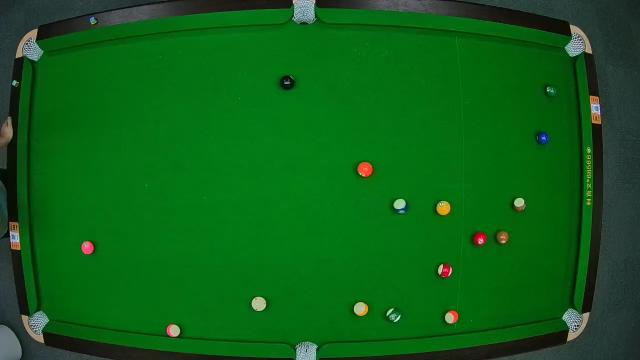bag1: (24, 40, 40, 62)
bag2: (292, 2, 316, 22)
bag3: (566, 34, 584, 56)
bag4: (27, 310, 49, 336)
bag5: (295, 342, 319, 360)
bag6: (562, 308, 584, 332)
ball0: (250, 296, 266, 312)
ball1: (435, 200, 451, 218)
ball10: (392, 196, 408, 214)
ball11: (438, 262, 452, 278)
ball12: (165, 323, 181, 337)
ball13: (444, 310, 460, 326)
ball14: (386, 307, 404, 323)
ball15: (513, 197, 529, 213)
ball2: (536, 130, 550, 146)
ball3: (472, 231, 486, 246)
ball4: (80, 241, 98, 255)
ball5: (356, 161, 374, 177)
ball6: (544, 82, 560, 98)
ball7: (494, 229, 511, 245)
ball8: (280, 75, 296, 89)
ball9: (352, 301, 370, 317)
